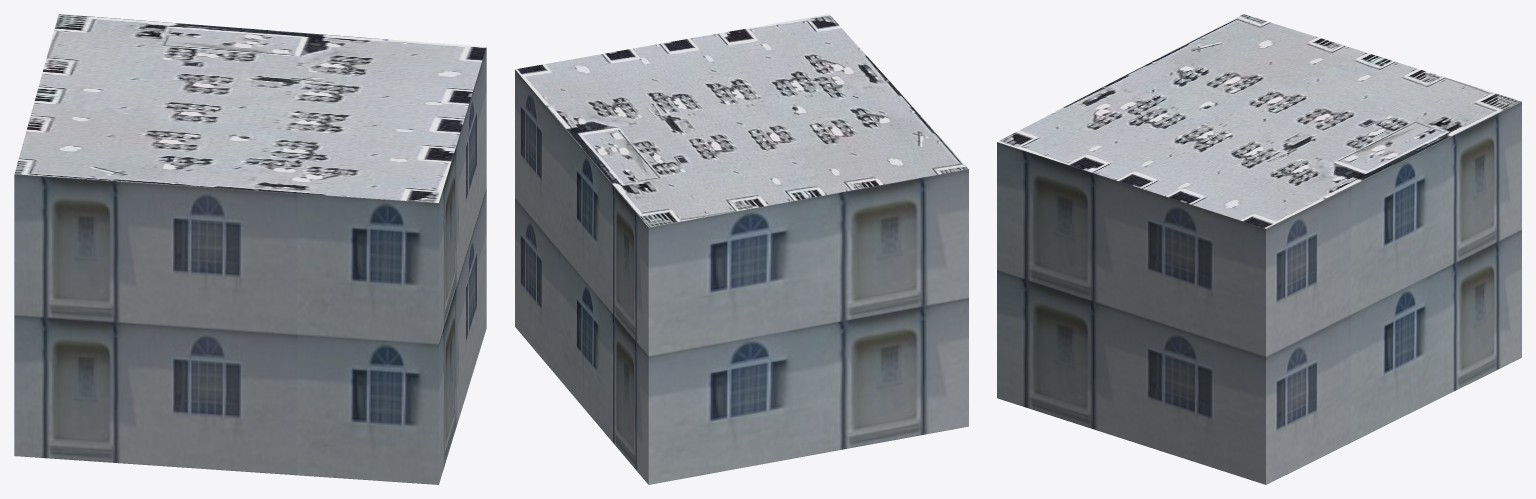
The model's file is ResTex__963.fbx.
The picture shows the model from 3 angles, left to right: view 1: azimuth 30°, elevation 25°; view 2: azimuth 150°, elevation 25°; view 3: azimuth 270°, elevation 25°; orthographic projection. The views are drawn at different scales.
Parts seen in each view (by area): view 1: CityEngineMaterial_17_m, CityEngineMaterial_2_m; view 2: CityEngineMaterial_17_m, CityEngineMaterial_2_m; view 3: CityEngineMaterial_17_m, CityEngineMaterial_2_m.
Part boxes in pixels (left/top/right/bottom): CityEngineMaterial_17_m: left=14, top=47, right=486, bottom=484; CityEngineMaterial_2_m: left=14, top=14, right=486, bottom=202; CityEngineMaterial_17_m: left=515, top=69, right=968, bottom=484; CityEngineMaterial_2_m: left=515, top=14, right=968, bottom=227; CityEngineMaterial_17_m: left=997, top=101, right=1521, bottom=484; CityEngineMaterial_2_m: left=997, top=14, right=1521, bottom=228.
Size of the model in its own units: 10.79 by 6 by 11.14.
Materials: 2 (2 with a texture image).
